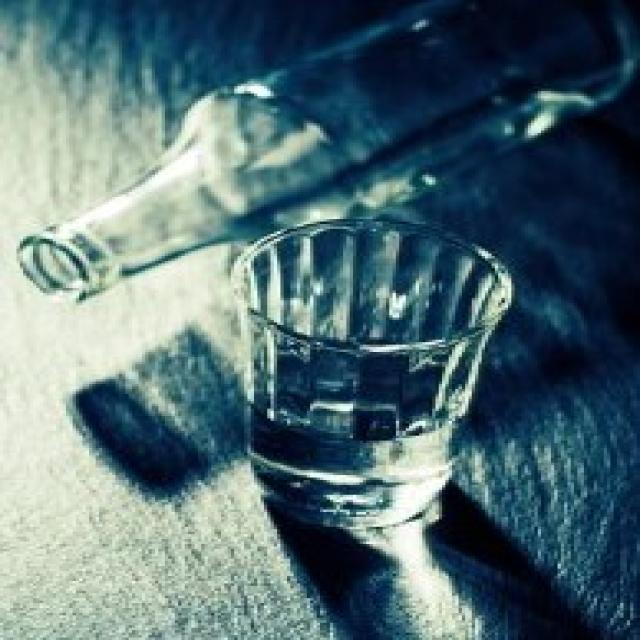electronic: (20, 0, 640, 303), (229, 212, 522, 530)
